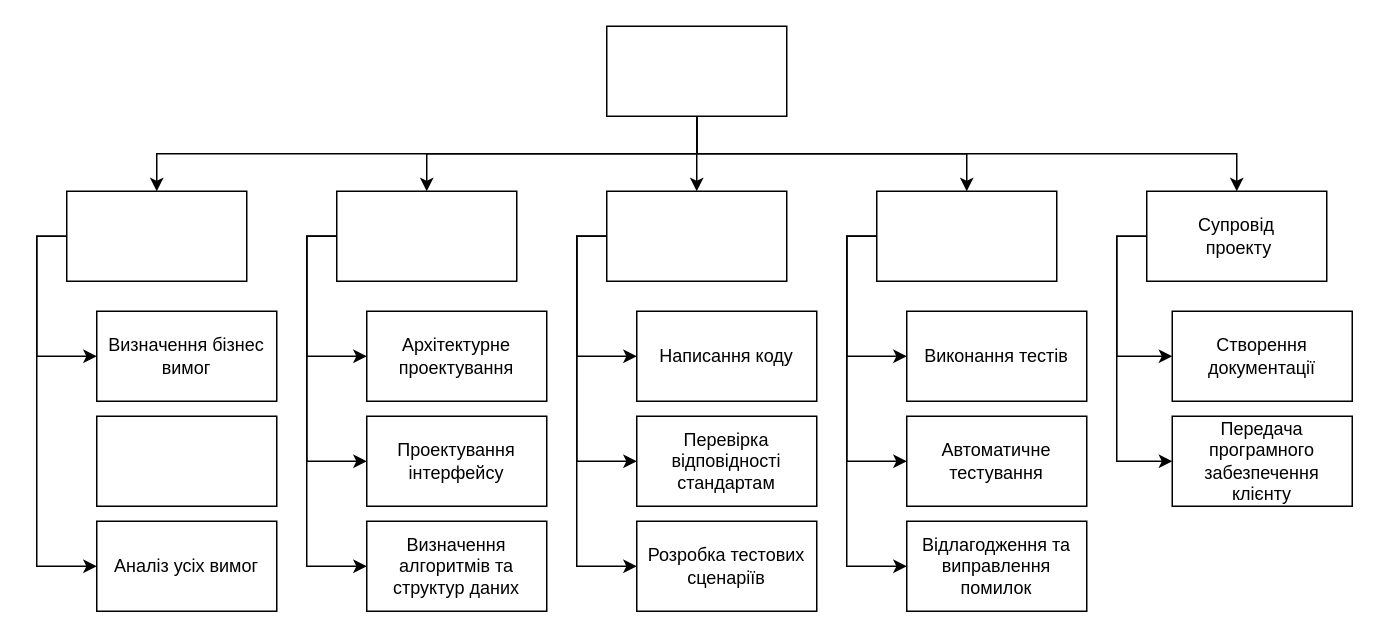
Some shapes in this 1379 by 638 pixel diagram are drawn without their labels. Each missing label, with the box of its shape:
Аналіз та визначення вимог проекту: (65, 190, 247, 281)
Визначення технічних вимог: (95, 415, 277, 506)
Проектування проекту: (335, 190, 517, 281)
Розробка: (605, 190, 787, 281)
Розробка проекту: (605, 25, 787, 116)
Тестування: (875, 190, 1057, 281)
